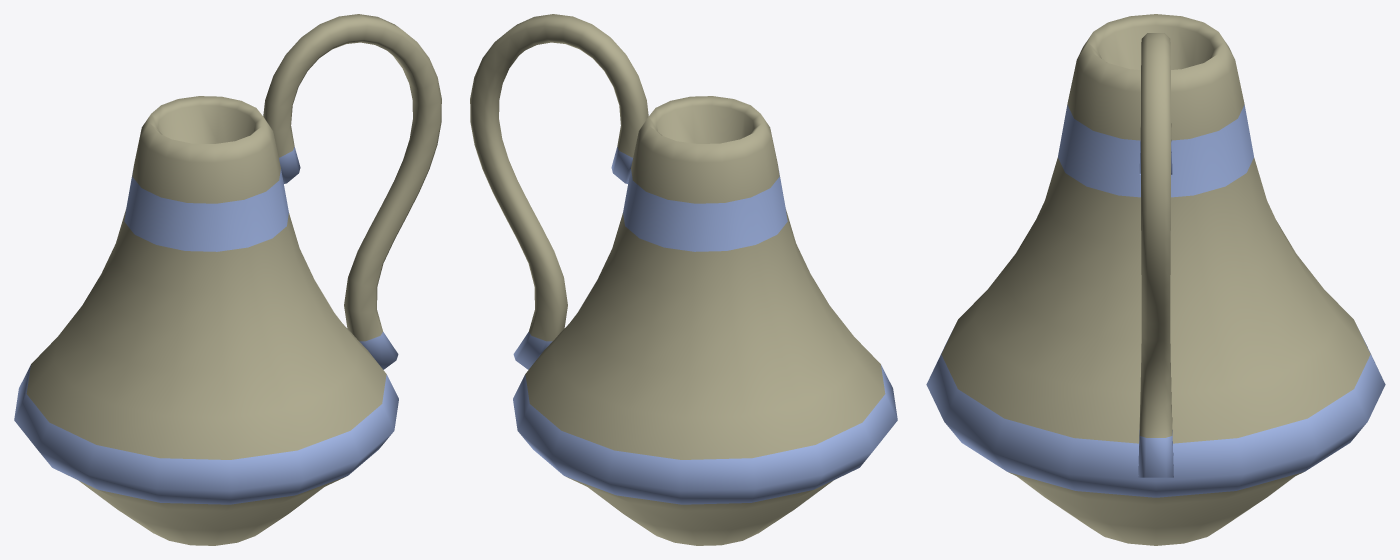
The model's file is Vase_00.fbx.
3 renders of one model, left to right at view 1: azimuth 30°, elevation 25°; view 2: azimuth 150°, elevation 25°; view 3: azimuth 270°, elevation 25°, orthographic. The views are drawn at different scales.
Visible parts, largest first — view 1: Vase_00; view 2: Vase_00; view 3: Vase_00.
Part boxes in pixels (left/top/right/bottom): Vase_00: left=14, top=14, right=441, bottom=545; Vase_00: left=470, top=14, right=897, bottom=545; Vase_00: left=926, top=14, right=1385, bottom=545.
Bounding box in the file's own units: 26.68 × 29.83 × 22.46.
